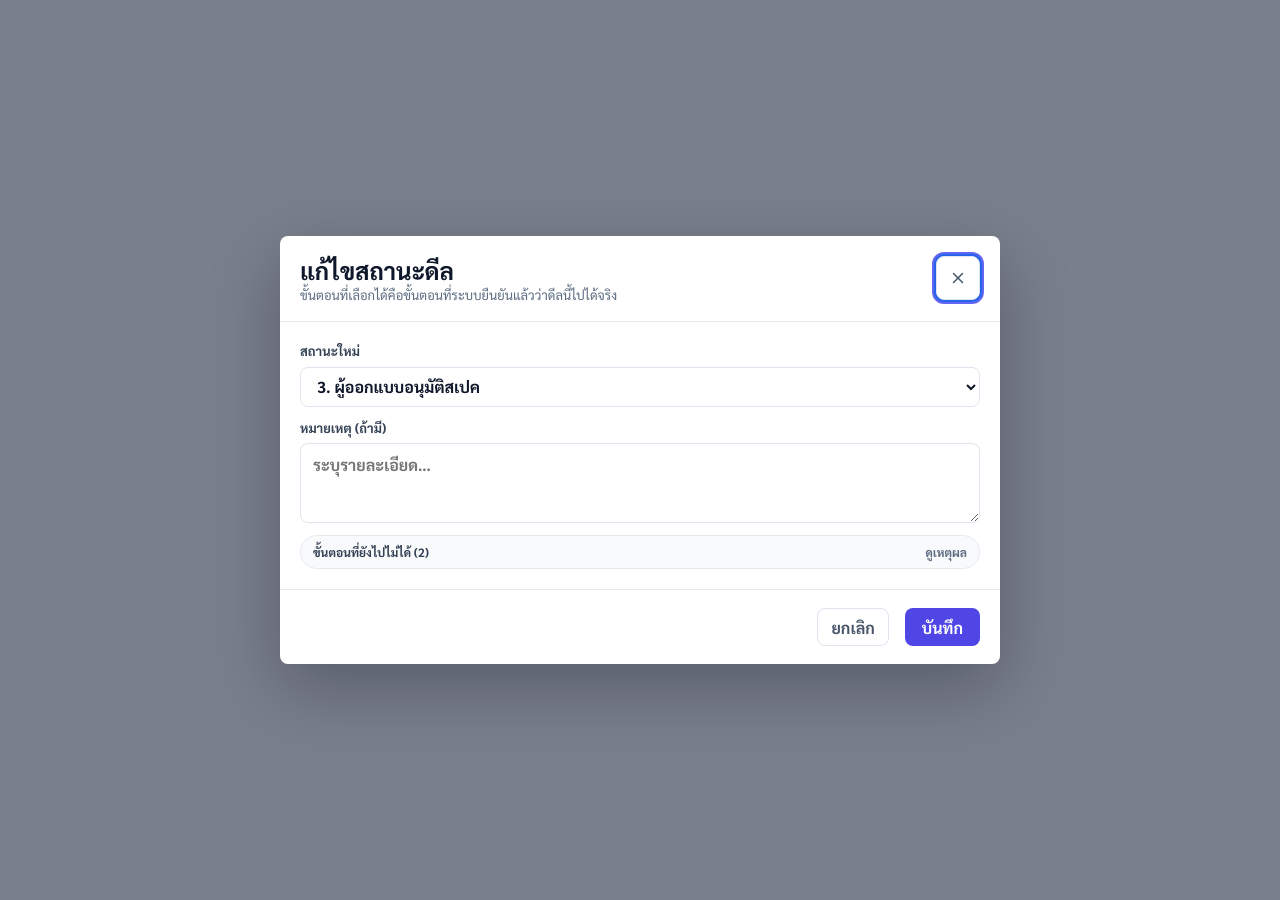
it: UpdateStageModal renders the backend decision › shows every blocked stage with the server's own reason, instead of hiding it
Step 1. Click the button with test id "update-stage-blocked-toggle" → (366, 552), box 301,536 -> 979,568
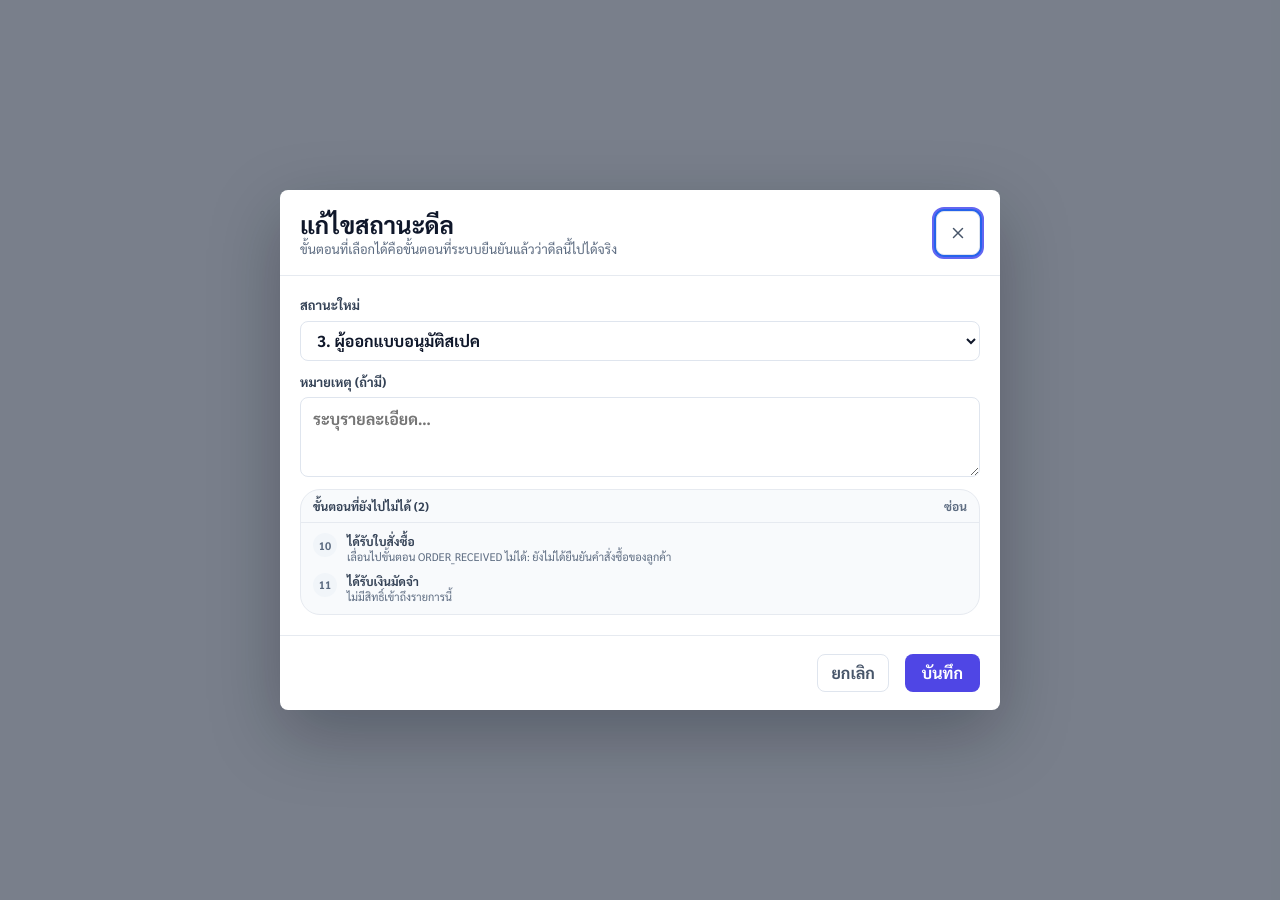
Check: the text "ยังไม่ได้ยืนยันคำสั่งซื้อของลูกค้า" is shown, box 347,549 -> 671,564
Check: the text "ไม่มีสิทธิ์เข้าถึงรายการนี้" is shown, box 347,589 -> 452,604
Check: the text "ได้รับใบสั่งซื้อ" is shown, box 347,533 -> 415,549
